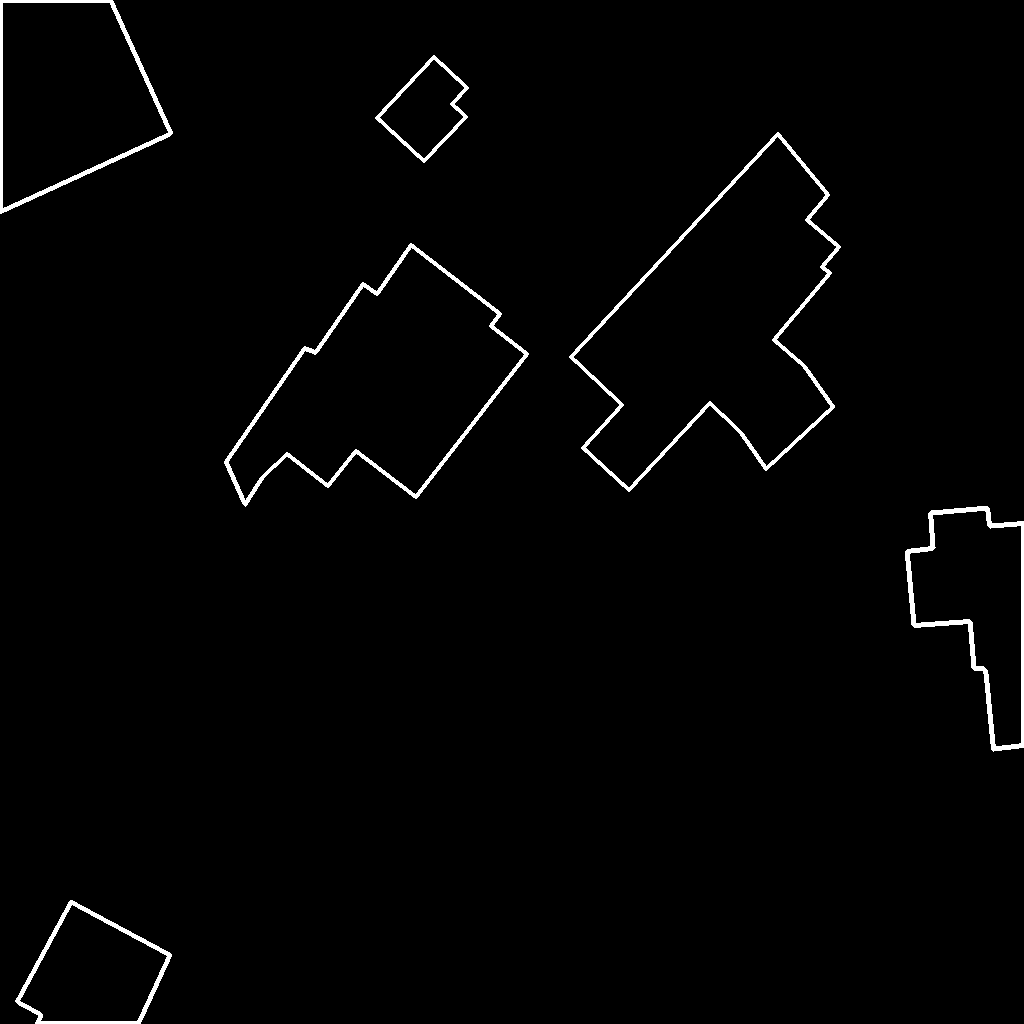building: (571, 134, 840, 491), (225, 245, 528, 506), (0, 0, 172, 213), (907, 508, 1024, 750), (17, 902, 171, 1024), (377, 57, 468, 162)
